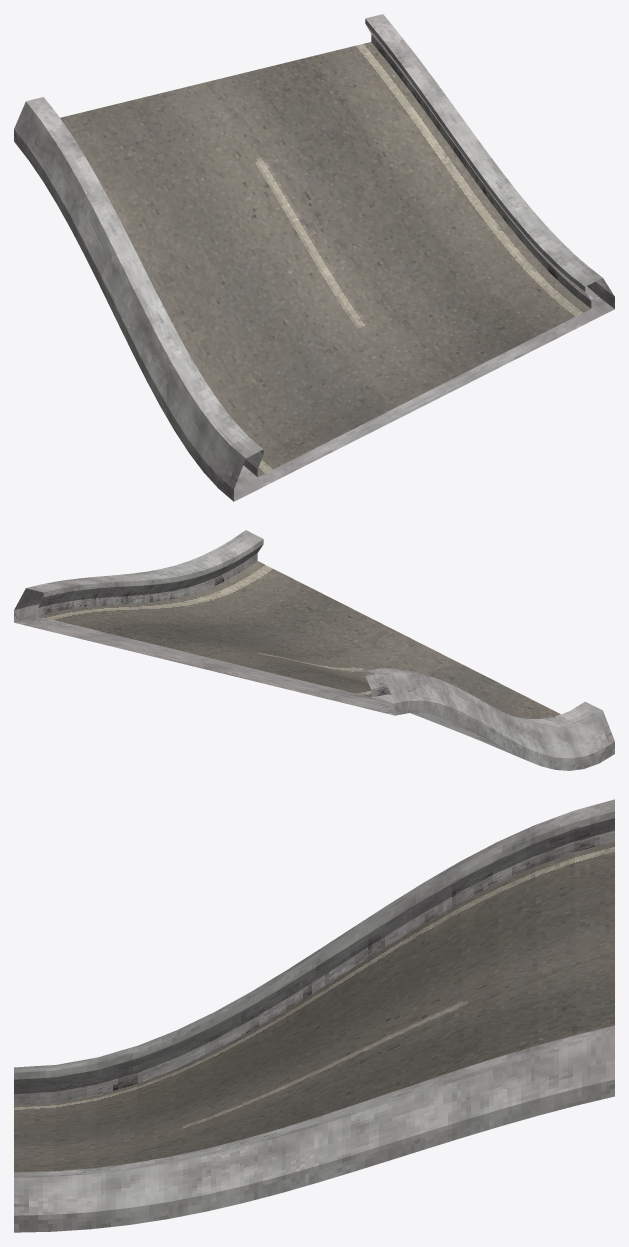
The model's file is straight1.glb.
3 renders of one model, top to bottom at view 1: azimuth 30°, elevation 25°; view 2: azimuth 150°, elevation 25°; view 3: azimuth 270°, elevation 25°, orthographic. The views are drawn at different scales.
Parts seen in each view (by area): view 1: road-Straight-HalfBankedLeft-BiSlopeUp-Up2-Center-Size1; view 2: road-Straight-HalfBankedLeft-BiSlopeUp-Up2-Center-Size1; view 3: road-Straight-HalfBankedLeft-BiSlopeUp-Up2-Center-Size1.
Boxes of the visible parts, x1,y1,x2,y2 form: road-Straight-HalfBankedLeft-BiSlopeUp-Up2-Center-Size1: (14,14,614,501); road-Straight-HalfBankedLeft-BiSlopeUp-Up2-Center-Size1: (14,530,614,770); road-Straight-HalfBankedLeft-BiSlopeUp-Up2-Center-Size1: (14,799,614,1232).
Size of the model in its own units: 1 by 0.5937 by 1.
Materials: 2 (2 with a texture image).
